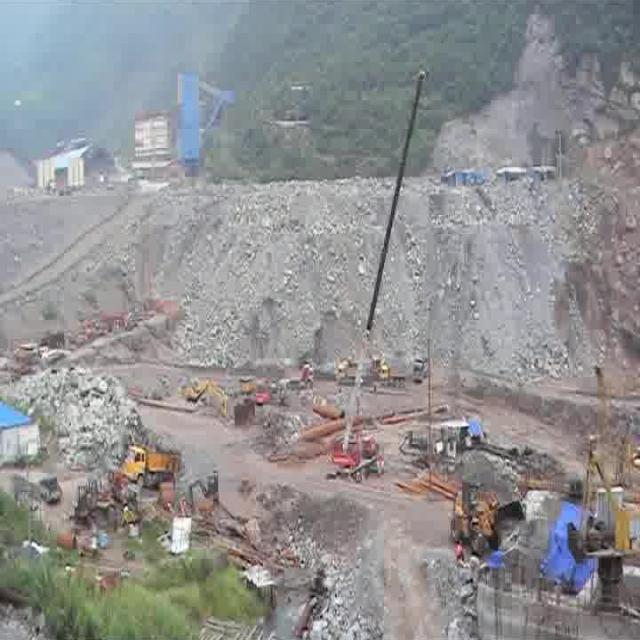crane: (326, 68, 424, 480)
excavator: (182, 379, 228, 416)
machinery: (450, 481, 524, 555)
truck: (121, 447, 177, 486), (376, 365, 405, 387), (335, 358, 357, 383)
